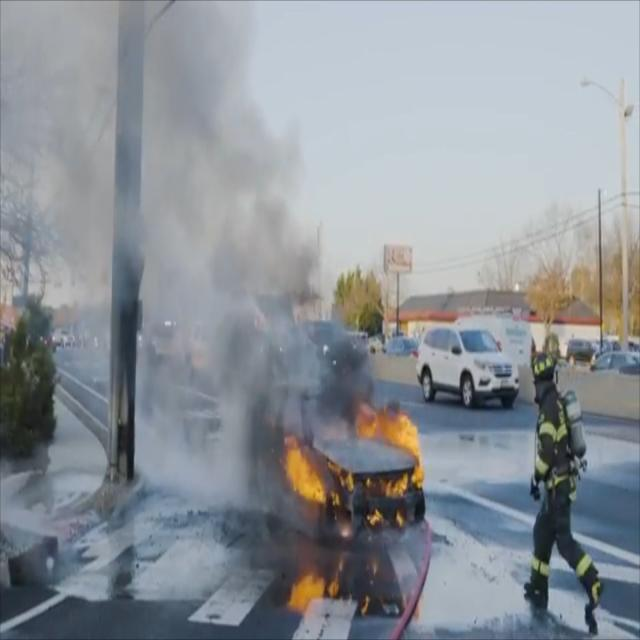fire: (276, 384, 434, 534), (289, 566, 412, 615)
